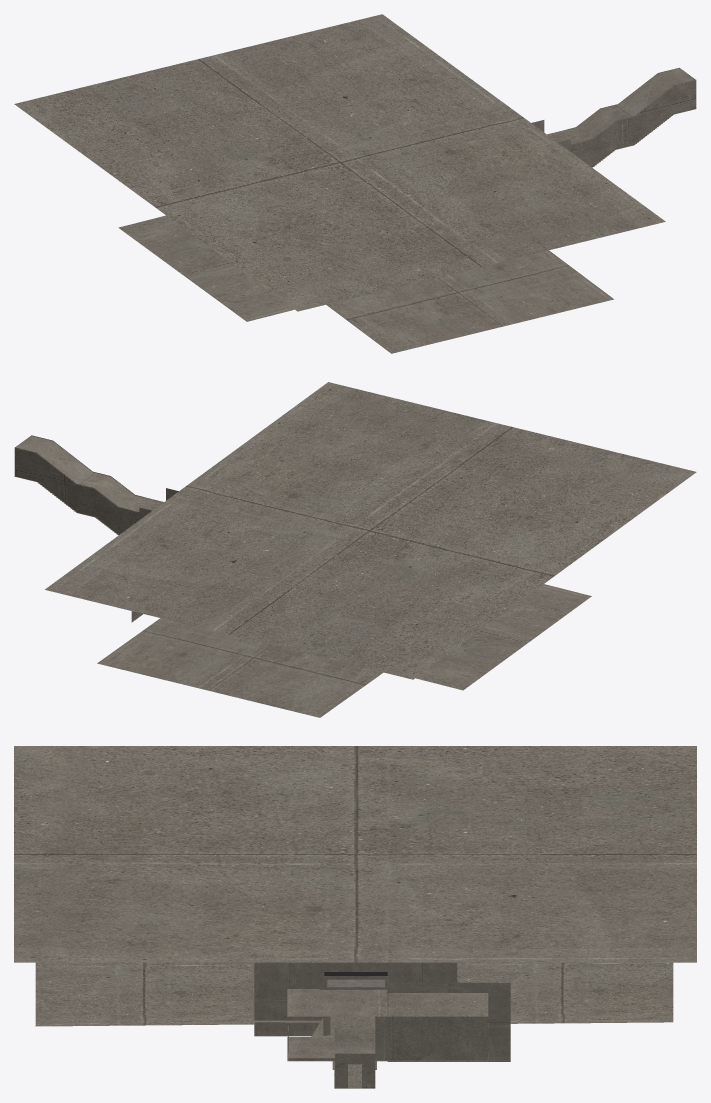
The model's file is 3drop_gallery_v86.glb.
The picture shows the model from 3 angles, top to bottom: view 1: azimuth 30°, elevation 25°; view 2: azimuth 150°, elevation 25°; view 3: azimuth 270°, elevation 25°; orthographic projection. The views are drawn at different scales.
Visible parts, largest first — view 1: frameConcreteExternalTop, sideLeftPlateformConcrete_grndPhys, backPlateformConcrete_grndPhys, entranceBackWall, entranceBackCeiling; view 2: frameConcreteExternalTop, sideRightPlateformConcrete_grndPhys, backPlateformConcrete_grndPhys, entranceBackWall, entranceBackCeiling; view 3: frameConcreteExternalTop, sideLeftPlateformConcrete_grndPhys, sideRightPlateformConcrete_grndPhys, demoZoneSurroundingPlanes, entranceBackCeiling, entranceBackWall, entranceBackStairs_grndPhys, entranceLobbyConcrete, frameConcreteExternal.
Boxes of the visible parts, bbox=[...] form: frameConcreteExternalTop: bbox=[14, 14, 665, 311]; sideLeftPlateformConcrete_grndPhys: bbox=[326, 250, 613, 353]; backPlateformConcrete_grndPhys: bbox=[118, 215, 294, 321]; entranceBackWall: bbox=[547, 67, 696, 167]; entranceBackCeiling: bbox=[547, 68, 695, 144]; frameConcreteExternalTop: bbox=[45, 382, 696, 679]; sideRightPlateformConcrete_grndPhys: bbox=[97, 618, 383, 717]; backPlateformConcrete_grndPhys: bbox=[415, 584, 591, 690]; entranceBackWall: bbox=[14, 435, 163, 534]; entranceBackCeiling: bbox=[15, 436, 163, 511]; frameConcreteExternalTop: bbox=[14, 746, 696, 962]; sideLeftPlateformConcrete_grndPhys: bbox=[35, 962, 254, 1026]; sideRightPlateformConcrete_grndPhys: bbox=[457, 962, 673, 1023]; demoZoneSurroundingPlanes: bbox=[254, 962, 510, 1061]; entranceBackCeiling: bbox=[287, 987, 488, 1053]; entranceBackWall: bbox=[288, 1016, 488, 1088]; entranceBackStairs_grndPhys: bbox=[287, 1037, 488, 1088]; entranceLobbyConcrete: bbox=[323, 976, 388, 1035]; frameConcreteExternal: bbox=[324, 962, 387, 971].
Bounding box in the file's own units: 271 × 44.63 × 250.
4 materials, 4 textured.
